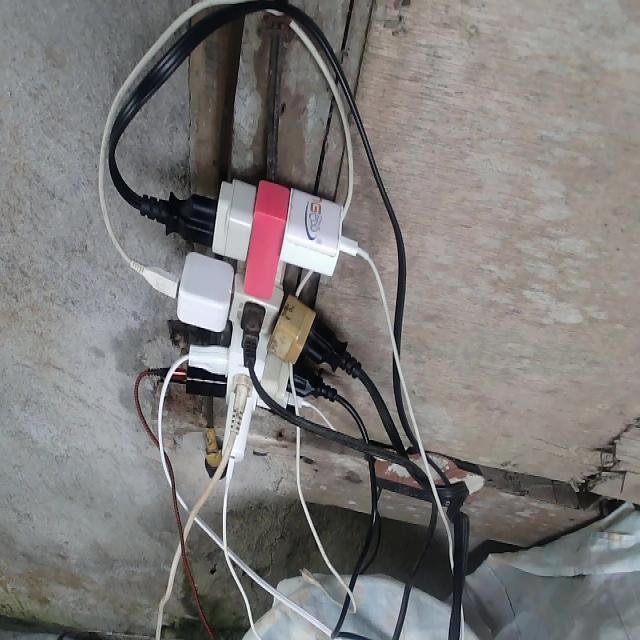-: (132, 175, 367, 464)
